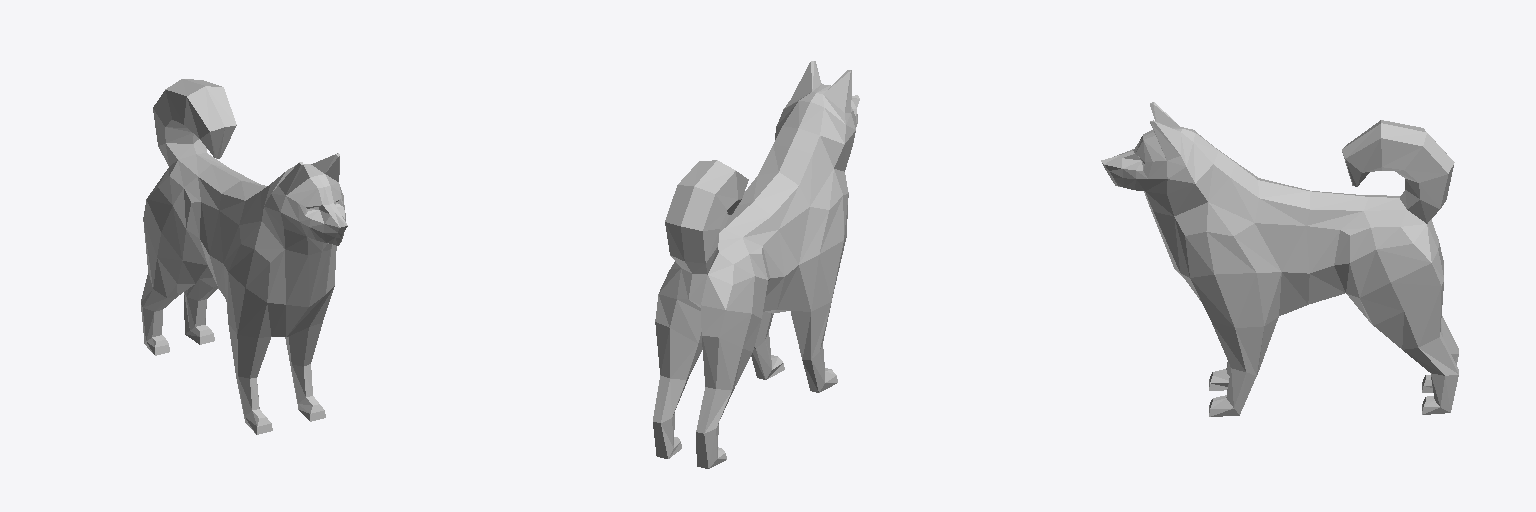
Rendered from wolf.obj.
3 views of the same model, side by side, from view 1: azimuth 30°, elevation 25°; view 2: azimuth 150°, elevation 25°; view 3: azimuth 270°, elevation 25° (orthographic).
Parts seen in each view (by area): view 1: ORIGAMI_Chien; view 2: ORIGAMI_Chien; view 3: ORIGAMI_Chien.
Part boxes in pixels (x1,y1,x2,y2): ORIGAMI_Chien: (141, 79, 347, 434); ORIGAMI_Chien: (653, 61, 859, 468); ORIGAMI_Chien: (1101, 102, 1458, 416).
Size of the model in its own units: 22.84 by 72.9 by 82.